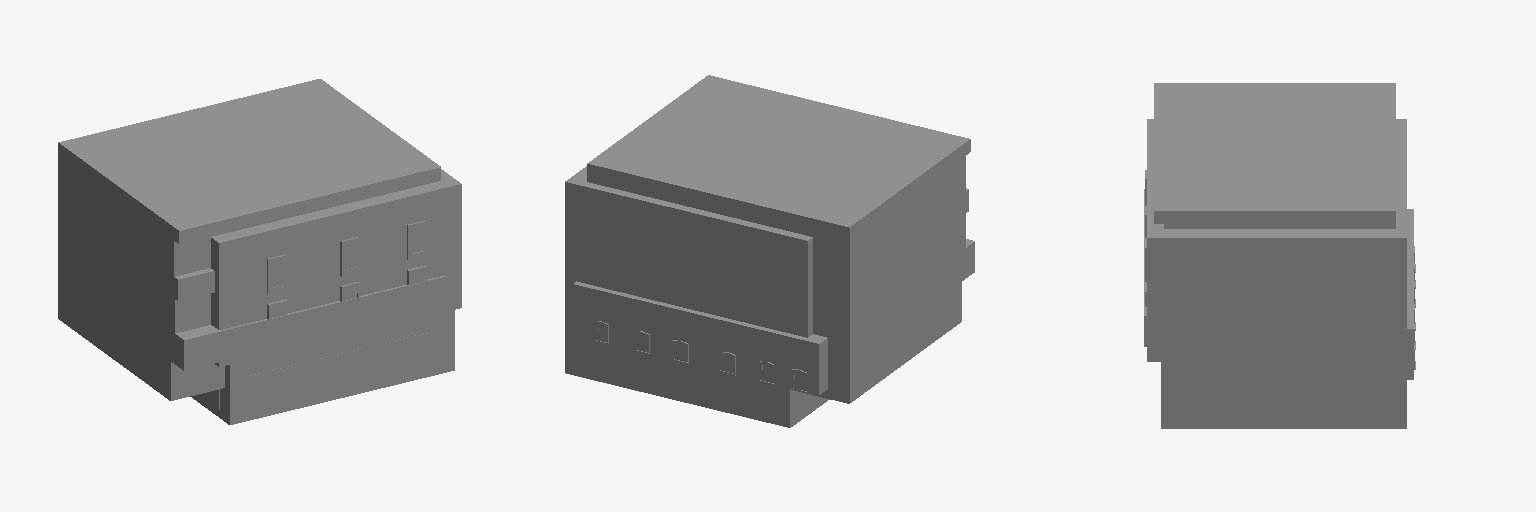
The model's file is edificio55.obj.
The picture shows the model from 3 angles: view 1: azimuth 30°, elevation 25°; view 2: azimuth 150°, elevation 25°; view 3: azimuth 270°, elevation 25°; orthographic projection.
Parts seen in each view (by area): view 1: Cubo.004_Cubo.046, Cubo.008_Cubo.051; view 2: Cubo.004_Cubo.046, Cubo.008_Cubo.051, Cubo.003_Cubo.032, Cubo.001_Cubo.021, Cubo.002_Cubo.031; view 3: Cubo.008_Cubo.051, Cubo.004_Cubo.046, Cubo.003_Cubo.032.
Part boxes in pixels (x1,y1,x2,y2): Cubo.004_Cubo.046: (58,79,445,400); Cubo.008_Cubo.051: (190,169,461,424); Cubo.004_Cubo.046: (587,75,974,403); Cubo.008_Cubo.051: (565,166,829,427); Cubo.003_Cubo.032: (573,281,827,394); Cubo.001_Cubo.021: (593,321,806,392); Cubo.002_Cubo.031: (573,292,826,393); Cubo.008_Cubo.051: (1145,119,1406,428); Cubo.004_Cubo.046: (1144,83,1395,346); Cubo.003_Cubo.032: (1407,209,1413,379).
Size of the model in its own units: 16.75 by 12.05 by 14.1.